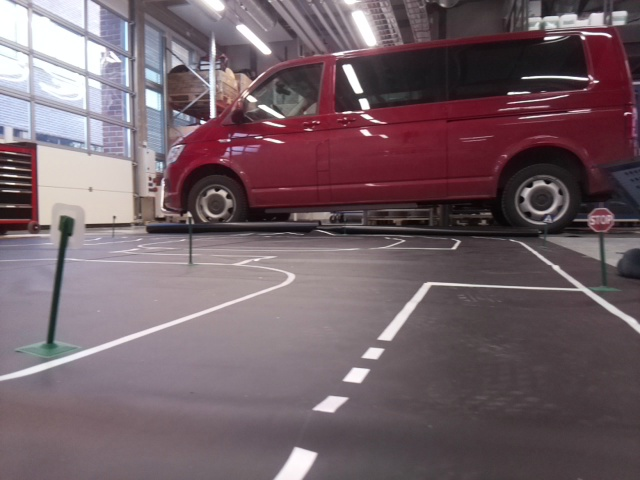Stop: (589, 207, 613, 230)
